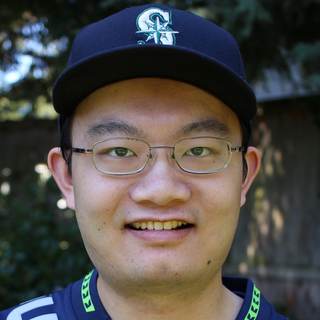eye: (94, 141, 146, 167), (176, 143, 223, 163)
